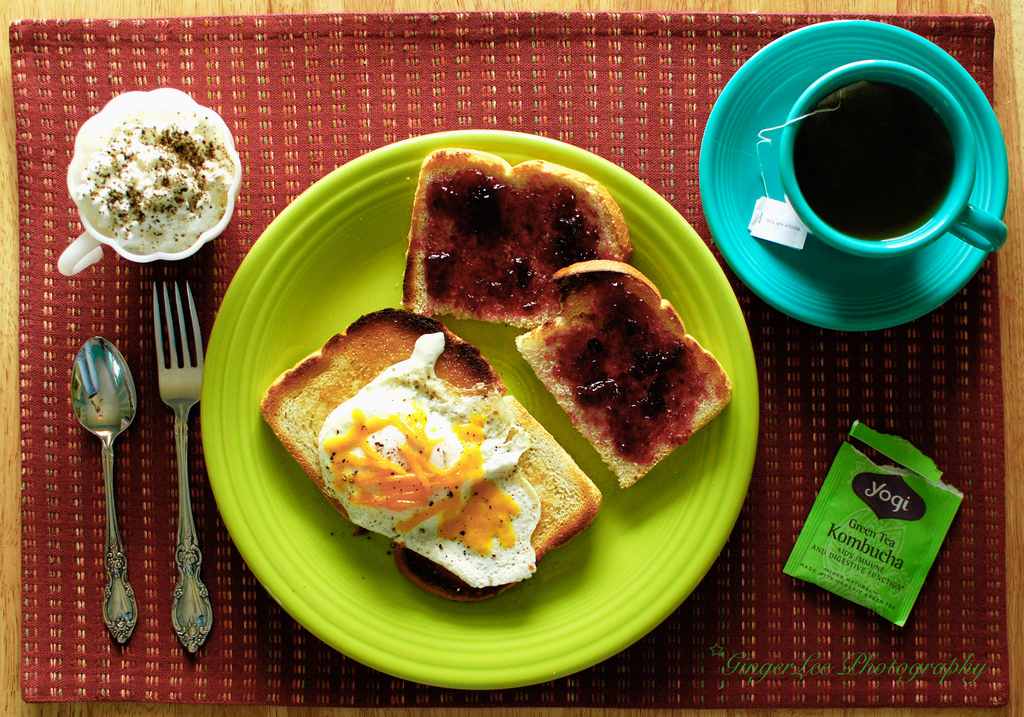fried egg: (320, 348, 544, 593)
slice of bread: (528, 262, 746, 492), (409, 136, 635, 333)
